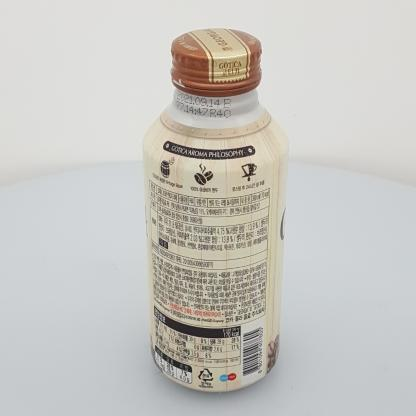----------------: (142, 28, 289, 393)
